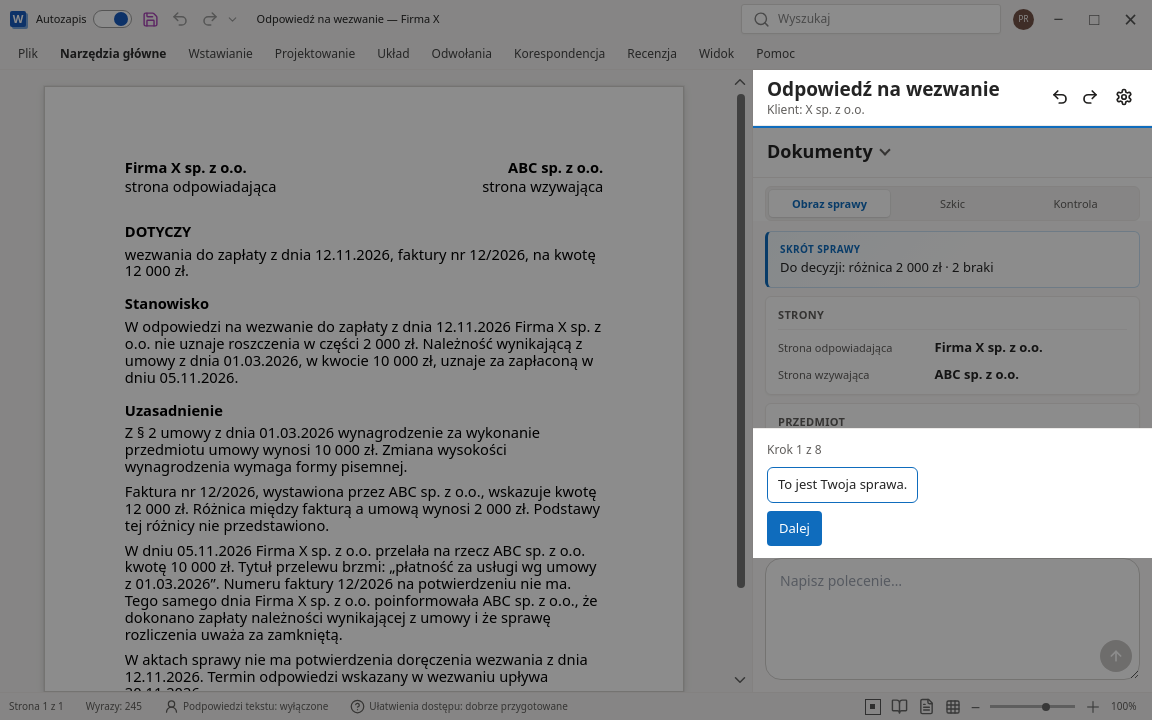
Test case: prezentacja › krok 2 otwiera obraz sprawy
The image size is (1152, 720).
Click the button "Dalej": (794, 529) [767,511,822,546]
(page scrolled)
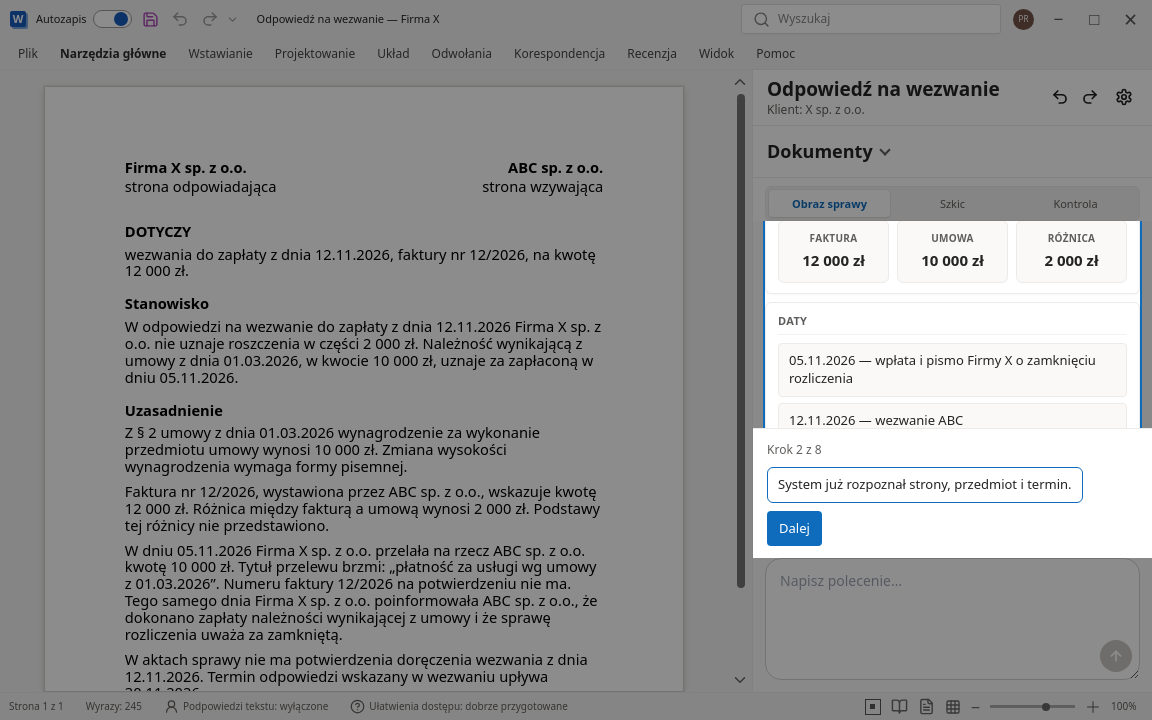
Expected: the text "System już rozpoznał strony, przedmiot i termin." is shown, [767,467,1083,503]
Expected: the panel shows "12 000 zł", [778,220,889,283]
Expected: the panel shows "10 000 zł", [897,220,1008,283]
